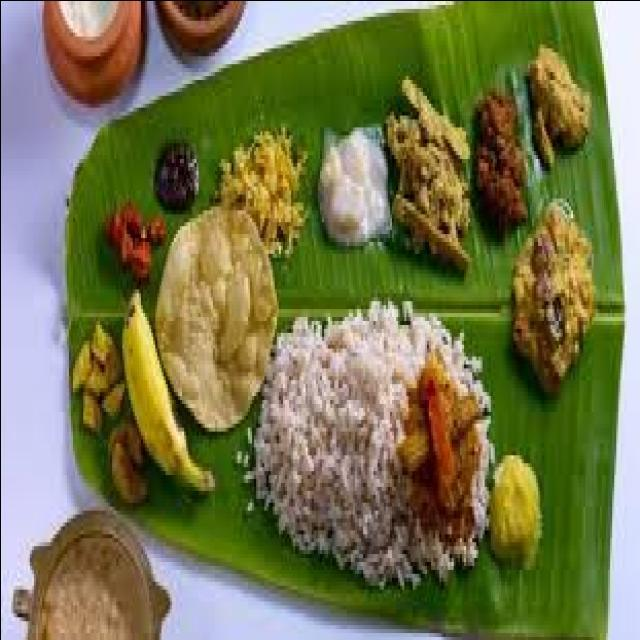papad: (150, 203, 283, 433)
pickle: (95, 190, 166, 284)
rice: (267, 287, 499, 583)
sambar-rasam: (39, 0, 156, 111), (141, 0, 256, 52)
